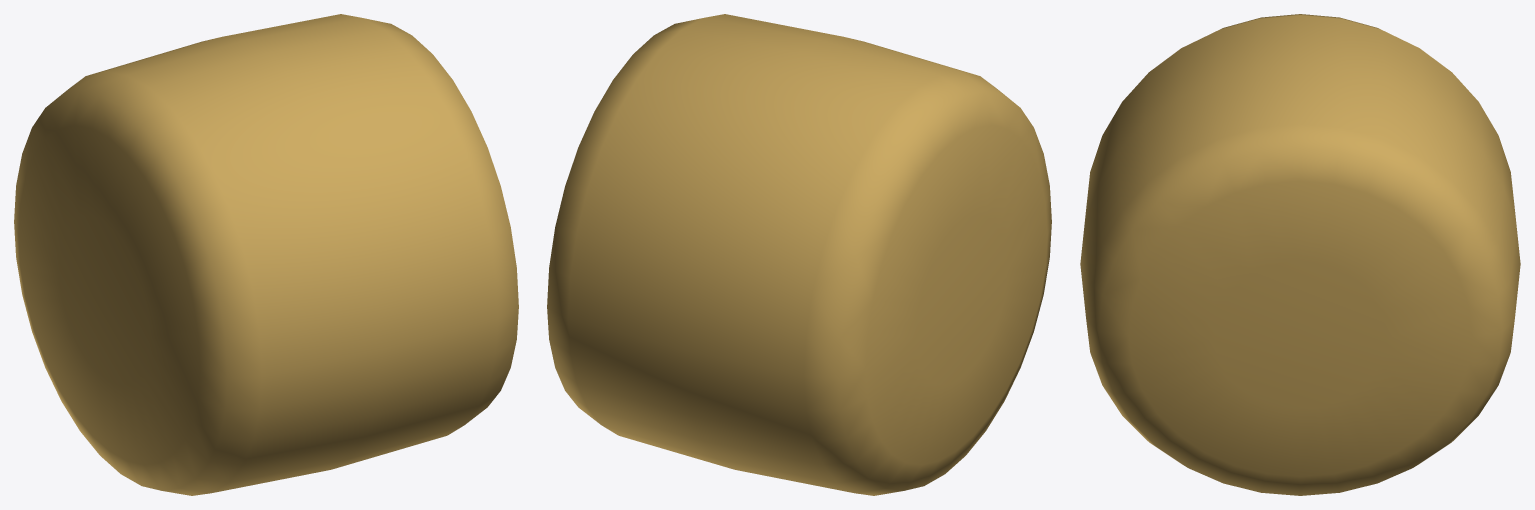
File: hay_bale_round.glb
The picture shows the model from 3 angles, left to right: view 1: azimuth 30°, elevation 25°; view 2: azimuth 150°, elevation 25°; view 3: azimuth 270°, elevation 25°; orthographic projection. The views are drawn at different scales.
Visible parts, largest first — view 1: hay_bale_round_lod0; view 2: hay_bale_round_lod0; view 3: hay_bale_round_lod0.
Part boxes in pixels (<box>): hay_bale_round_lod0: <box>14,14,518,495</box>; hay_bale_round_lod0: <box>547,14,1051,495</box>; hay_bale_round_lod0: <box>1080,14,1520,495</box>.
Size of what is drawn, in the model's own units: 1.25 by 1.46 by 1.54.
